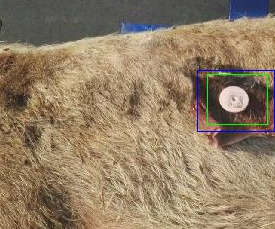text: (207, 74, 267, 124)
